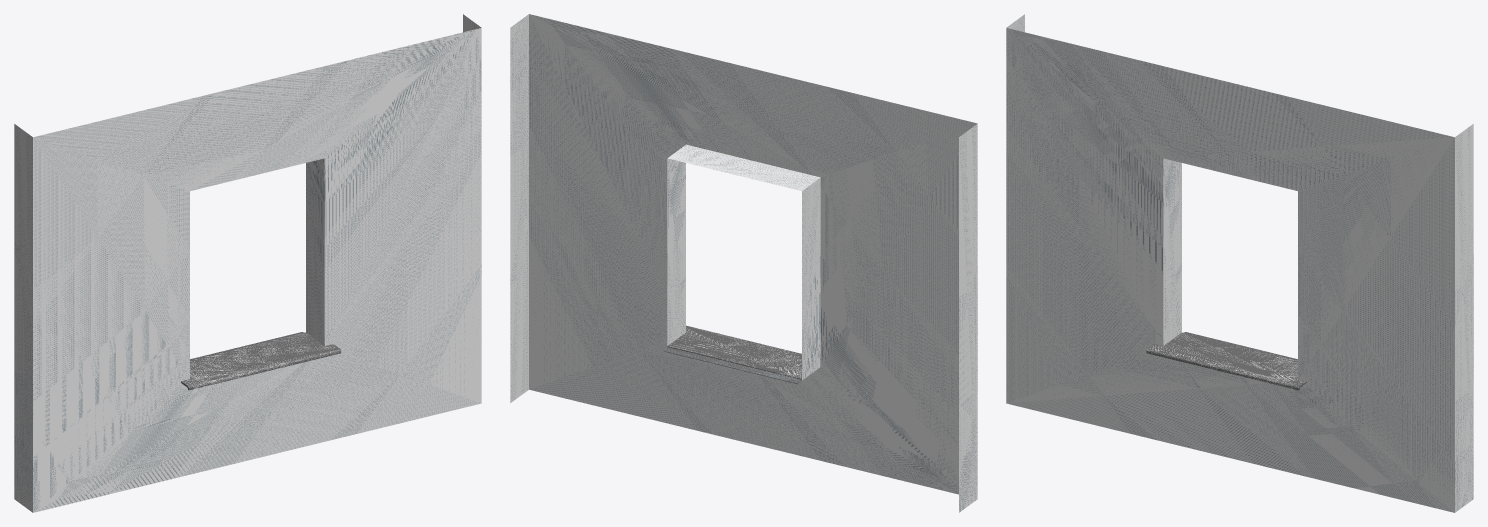
File: WindowBlock_os_[500x400]_150x200x[100].dae
The picture shows the model from 3 angles, left to right: view 1: azimuth 30°, elevation 25°; view 2: azimuth 150°, elevation 25°; view 3: azimuth 330°, elevation 25°; orthographic projection.
Visible parts, largest first — view 1: group_1 (×2), group_2; view 2: group_1 (×2), group_2 (×2); view 3: group_1 (×2), group_2.
Part boxes in pixels (x1,y1,x2,y2): group_1 (×2): (14, 14, 481, 512); group_2: (181, 332, 341, 390); group_1 (×2): (510, 14, 977, 512); group_2 (×2): (663, 325, 801, 384); group_1 (×2): (1006, 14, 1473, 512); group_2: (1146, 332, 1306, 390).
Bounding box in the file's own units: 197 × 23.03 × 157.
